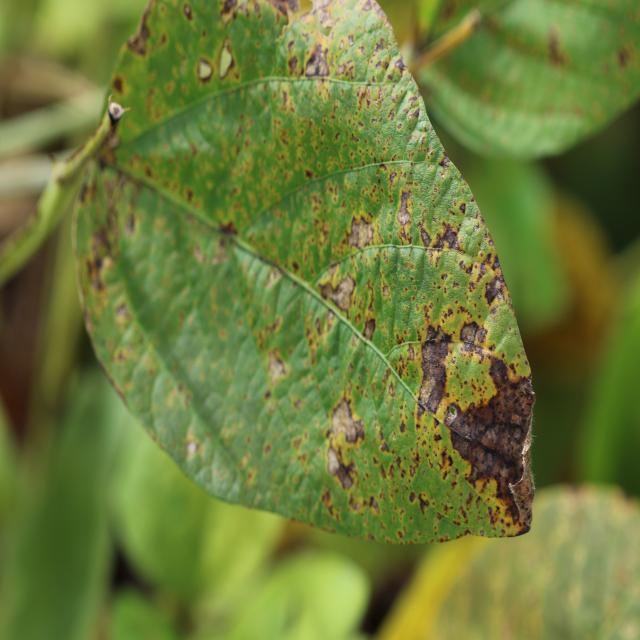Bacterial_Blight: (456, 426, 528, 486), (417, 338, 454, 417), (87, 228, 113, 281), (322, 273, 355, 314), (328, 450, 361, 488), (346, 214, 374, 251), (488, 354, 514, 390), (304, 42, 329, 78), (266, 348, 288, 385), (262, 0, 299, 22), (145, 86, 167, 123), (354, 82, 380, 113), (546, 28, 567, 66), (207, 236, 231, 268), (484, 273, 506, 306), (126, 27, 148, 56), (397, 189, 413, 227), (439, 223, 460, 250), (317, 6, 338, 31), (333, 57, 355, 80), (108, 99, 128, 123), (264, 267, 283, 291), (197, 57, 215, 82), (481, 424, 502, 445), (460, 321, 480, 343), (114, 300, 130, 324), (78, 177, 92, 204), (418, 224, 433, 249), (218, 218, 238, 236), (192, 241, 207, 264), (220, 0, 237, 18), (353, 419, 366, 442), (111, 74, 125, 95), (185, 439, 199, 460), (617, 46, 630, 67), (417, 493, 430, 513), (125, 213, 136, 236), (372, 36, 386, 54), (287, 55, 299, 75), (413, 150, 428, 165), (406, 106, 420, 122), (393, 56, 405, 74), (462, 260, 475, 276), (182, 3, 193, 20), (437, 153, 449, 168), (379, 438, 390, 453), (443, 306, 454, 321), (314, 316, 322, 335), (407, 344, 416, 360), (293, 436, 303, 450), (189, 142, 198, 157), (492, 258, 501, 272), (304, 168, 314, 180), (263, 443, 272, 456), (382, 284, 390, 297), (292, 260, 300, 273), (459, 202, 467, 214), (388, 382, 394, 397), (379, 162, 387, 173), (409, 491, 416, 503), (339, 38, 346, 50), (415, 304, 421, 312)
Soybean: (0, 0, 534, 543)
